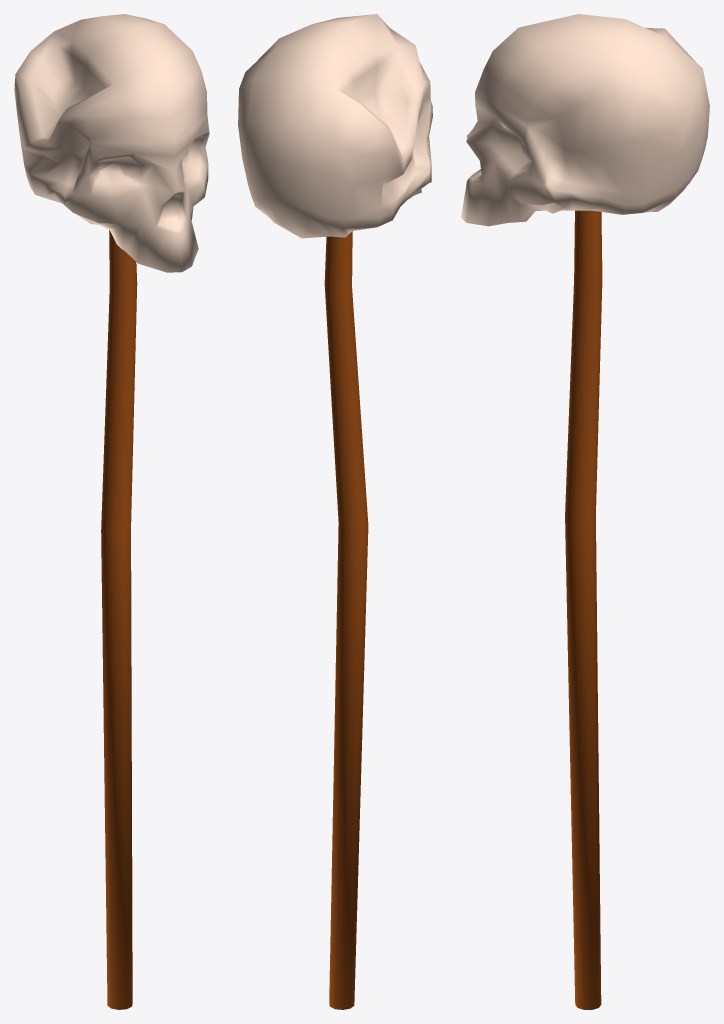
The model's file is SkullStick.fbx.
The picture shows the model from 3 angles, left to right: view 1: azimuth 30°, elevation 25°; view 2: azimuth 150°, elevation 25°; view 3: azimuth 270°, elevation 25°; orthographic projection.
Visible parts, largest first — view 1: SkullStick; view 2: SkullStick; view 3: SkullStick.
Boxes of the visible parts, left/top/right/bottom form: SkullStick: left=14, top=14, right=209, bottom=1009; SkullStick: left=238, top=14, right=432, bottom=1009; SkullStick: left=461, top=14, right=709, bottom=1009.
Bounding box in the file's own units: 30.52 × 184 × 41.97.
